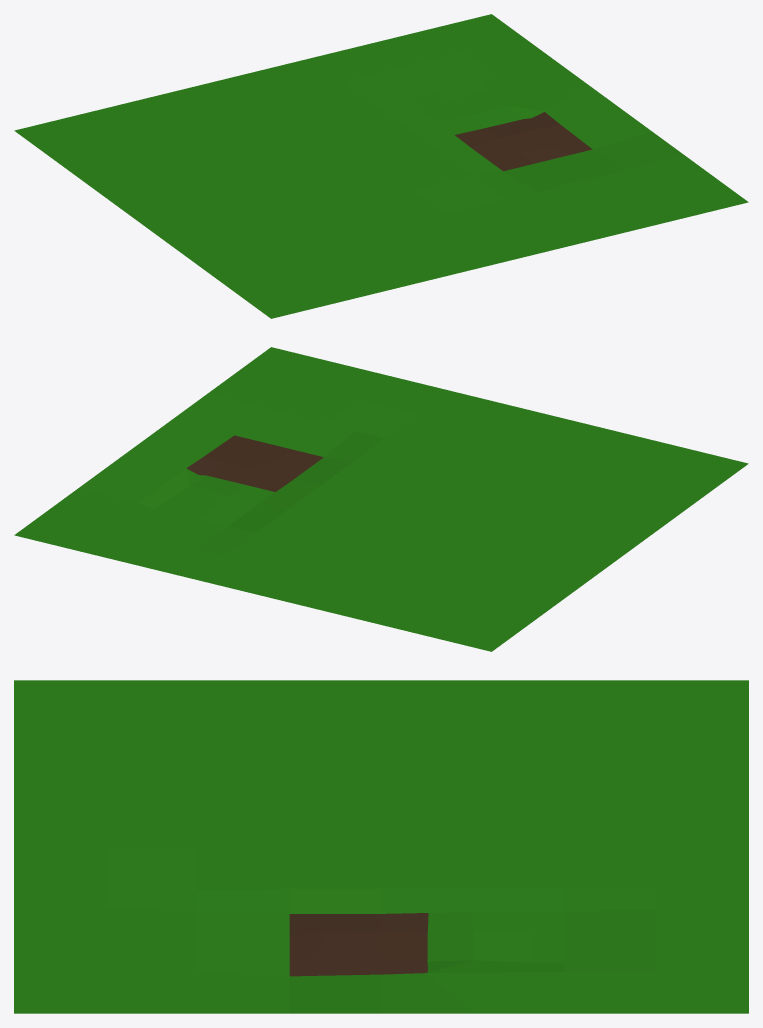
The model's file is farmground.glb.
The picture shows the model from 3 angles, top to bottom: view 1: azimuth 30°, elevation 25°; view 2: azimuth 150°, elevation 25°; view 3: azimuth 270°, elevation 25°; orthographic projection. The views are drawn at different scales.
Parts seen in each view (by area): view 1: Plane; view 2: Plane; view 3: Plane.
Boxes of the visible parts, box(x1,y1,x2,y2) form: Plane: box(14, 14, 748, 318); Plane: box(14, 347, 748, 651); Plane: box(14, 680, 748, 1013).
Size of the model in its own units: 774 by 6.59 by 722.
